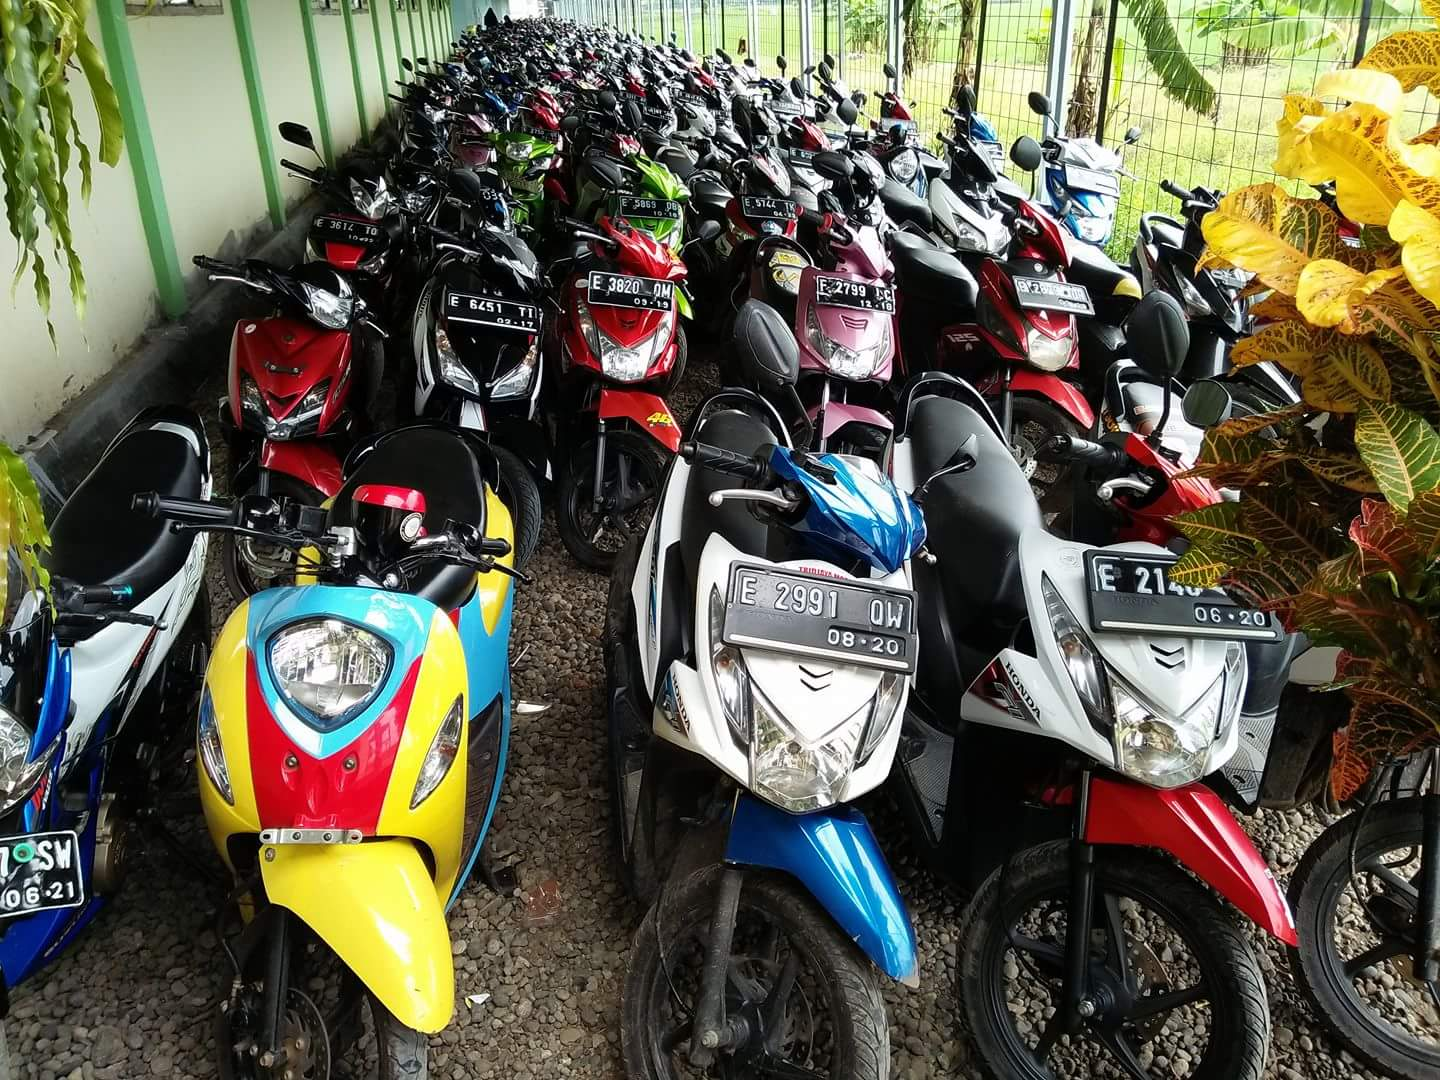plate: (731, 562, 913, 670), (1089, 552, 1273, 634), (446, 290, 542, 336), (588, 270, 677, 315), (812, 272, 897, 312), (1013, 273, 1094, 313), (314, 213, 381, 245), (618, 192, 681, 220)
